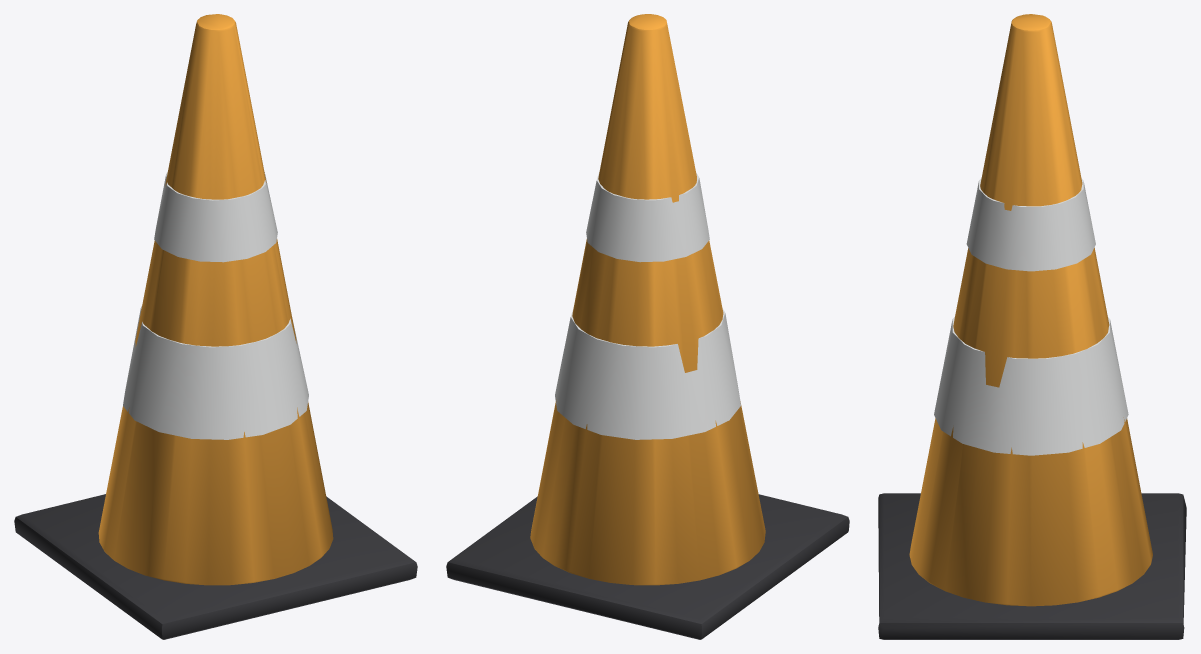
The model's file is SER-EPC-003_lod1.glb.
3 renders of one model, left to right at view 1: azimuth 30°, elevation 25°; view 2: azimuth 150°, elevation 25°; view 3: azimuth 270°, elevation 25°, orthographic. The views are drawn at different scales.
Visible parts, largest first — view 1: SER-EPC-003_cone, SER-EPC-003_base, SER-EPC-003_faixa0, SER-EPC-003_faixa1; view 2: SER-EPC-003_cone, SER-EPC-003_base, SER-EPC-003_faixa0, SER-EPC-003_faixa1; view 3: SER-EPC-003_cone, SER-EPC-003_base, SER-EPC-003_faixa0, SER-EPC-003_faixa1.
Part boxes in pixels (bbox=[...]): SER-EPC-003_cone: bbox=[98, 14, 333, 585]; SER-EPC-003_base: bbox=[14, 494, 417, 639]; SER-EPC-003_faixa0: bbox=[123, 305, 308, 439]; SER-EPC-003_faixa1: bbox=[154, 172, 277, 262]; SER-EPC-003_cone: bbox=[530, 14, 765, 585]; SER-EPC-003_base: bbox=[446, 494, 849, 639]; SER-EPC-003_faixa0: bbox=[555, 308, 740, 439]; SER-EPC-003_faixa1: bbox=[586, 172, 709, 262]; SER-EPC-003_cone: bbox=[909, 14, 1152, 606]; SER-EPC-003_base: bbox=[878, 493, 1186, 639]; SER-EPC-003_faixa0: bbox=[934, 317, 1128, 455]; SER-EPC-003_faixa1: bbox=[966, 178, 1095, 271].
Bounding box in the file's own units: 0.38 × 0.75 × 0.3771.
